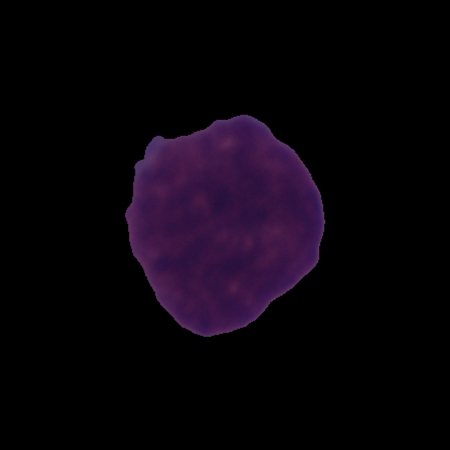ALL: (121, 111, 328, 339)
